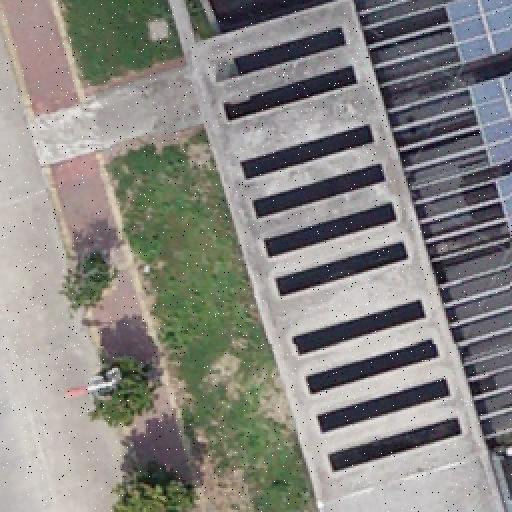solar-panel: (468, 72, 512, 168), (448, 0, 512, 64), (496, 174, 512, 234)
